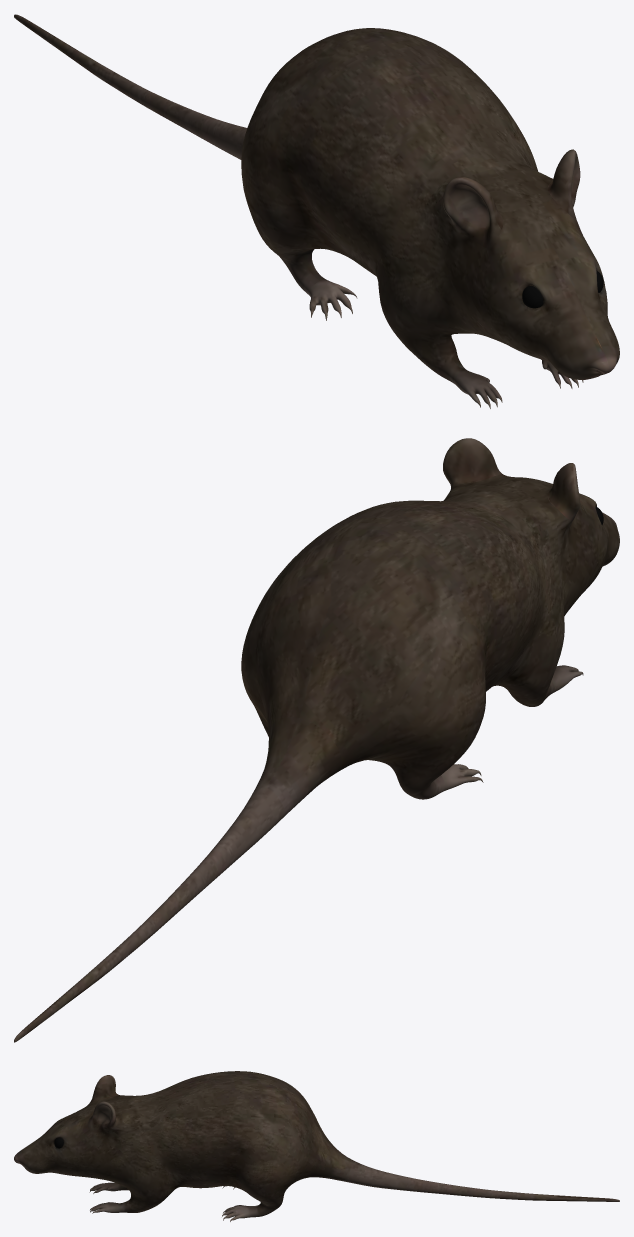
The model's file is street_rat.glb.
3 views of the same model, one above another, from view 1: azimuth 30°, elevation 25°; view 2: azimuth 150°, elevation 25°; view 3: azimuth 270°, elevation 25° (orthographic). The views are drawn at different scales.
Parts seen in each view (by area): view 1: street_rat; view 2: street_rat; view 3: street_rat.
Boxes of the visible parts, bbox=[...] form: street_rat: bbox=[14, 14, 619, 408]; street_rat: bbox=[14, 438, 619, 1042]; street_rat: bbox=[14, 1071, 619, 1221].
Bounding box in the file's own units: 0.032 × 0.0339 × 0.1483.
1 material, 1 textured.
